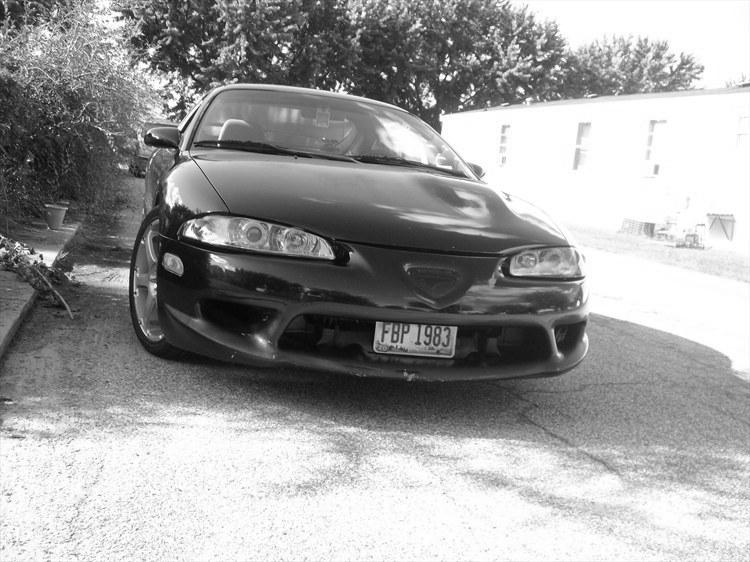car: (129, 81, 600, 379)
